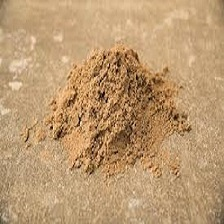sandy_soil: (44, 46, 180, 181)
